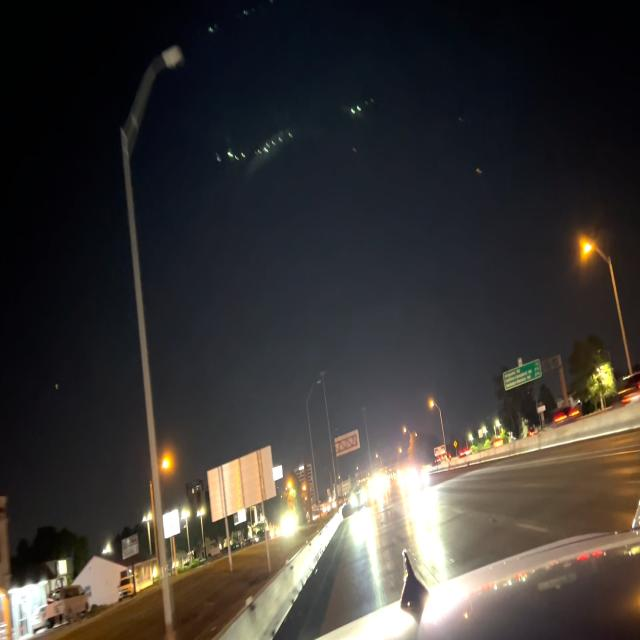back-of-sign: (207, 443, 278, 525)
